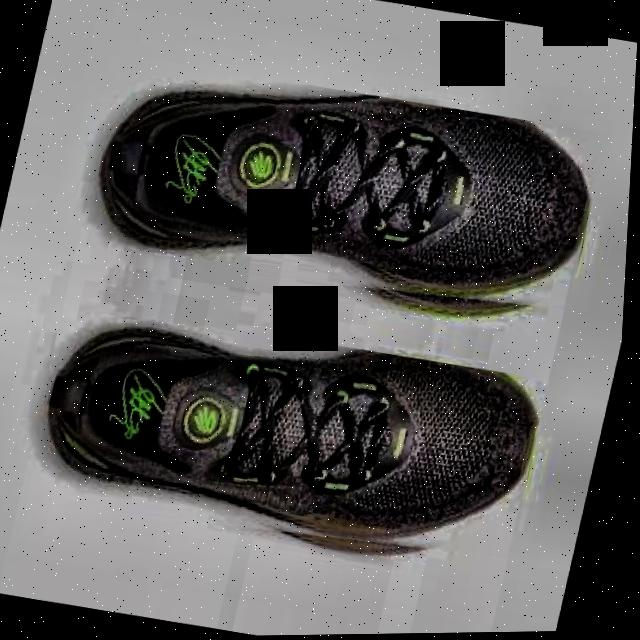shoe: (78, 49, 613, 342), (28, 297, 558, 587)
